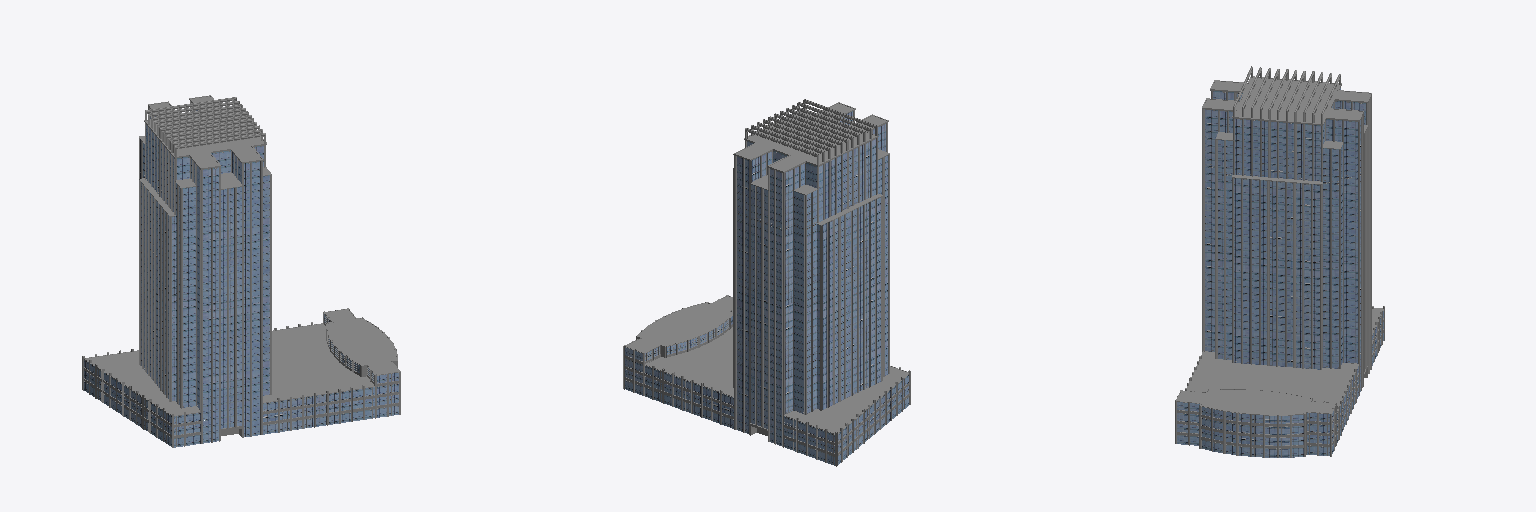
The picture shows the model from 3 angles: view 1: azimuth 30°, elevation 25°; view 2: azimuth 150°, elevation 25°; view 3: azimuth 270°, elevation 25°; orthographic projection.
Parts seen in each view (by area): view 1: JZ_JX_21; view 2: JZ_JX_21; view 3: JZ_JX_21.
Boxes of the visible parts, <box> form: JZ_JX_21: <box>82,95,400,447</box>; JZ_JX_21: <box>623,99,910,466</box>; JZ_JX_21: <box>1175,66,1384,457</box>.
Size of the model in its own units: 5010 by 5639 by 3752.
5 materials, 1 textured.